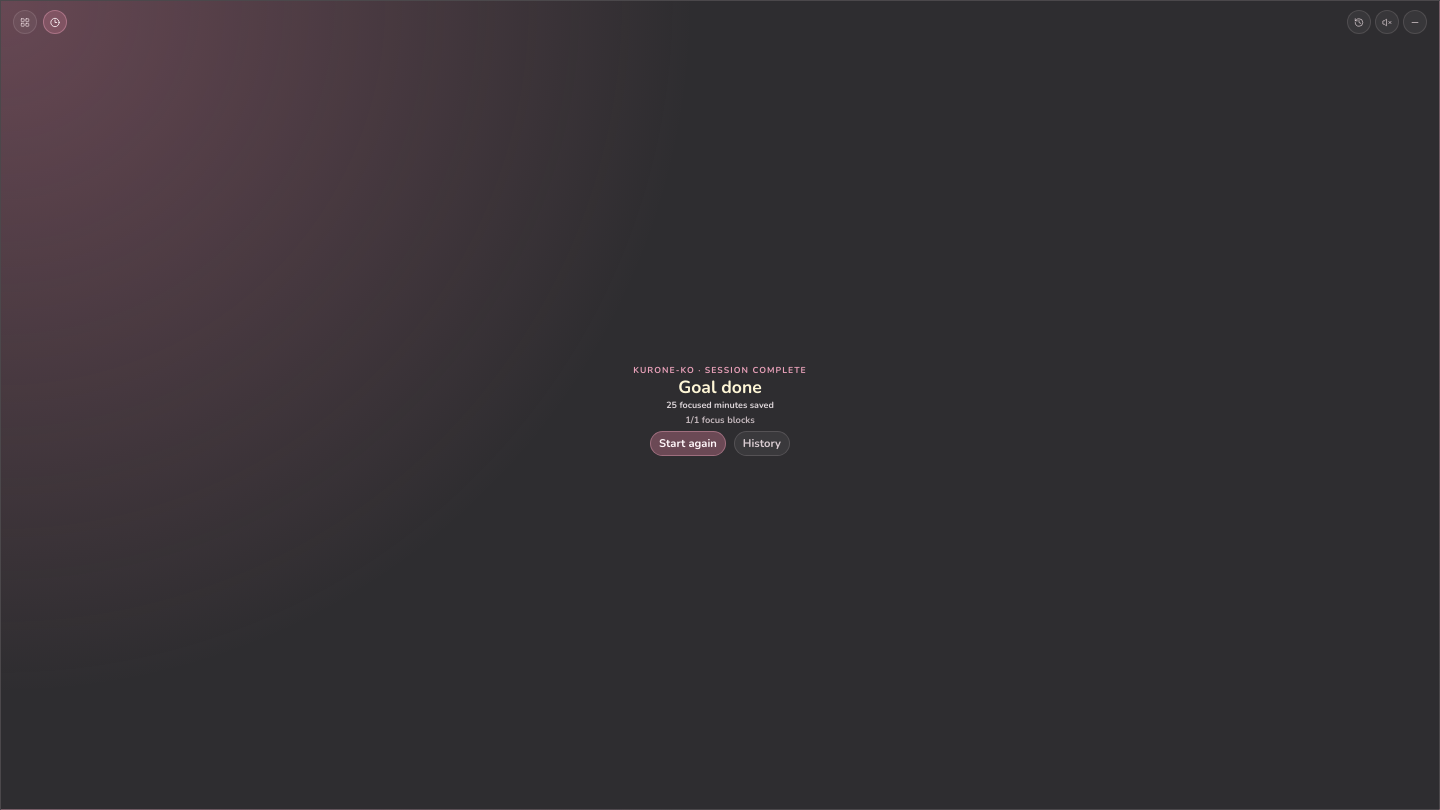
TimerWidget › starts a fresh focus block from the completed-session panel
What coordinates should you click on to do the following:
click the button "Start again"
I would click on:
 (688, 444)
Its box is [650, 431, 726, 456].
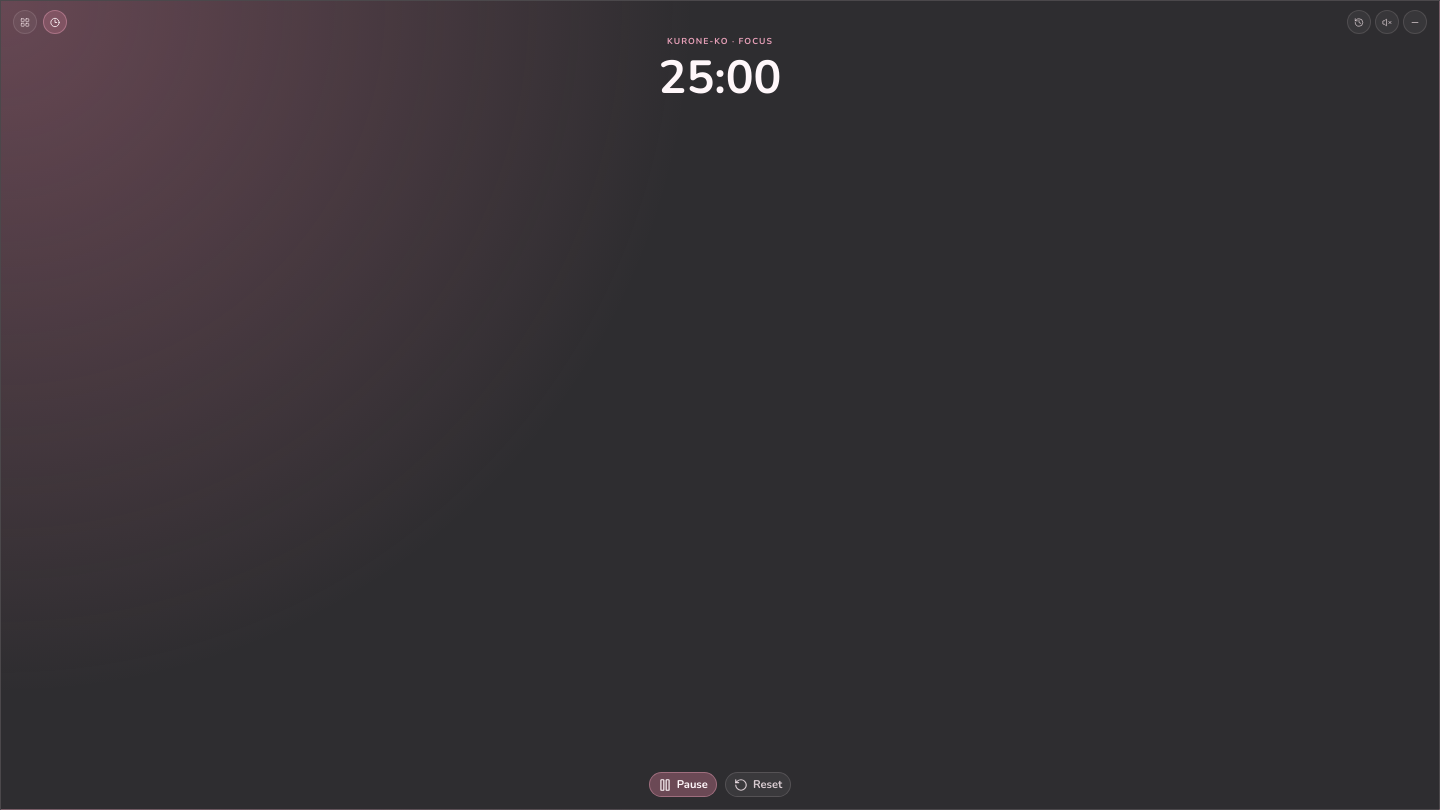
expect the text "KURONE-KO · Focus" is shown: met, box [667, 35, 773, 47]
expect the button "Pause" is shown: met, box [649, 772, 717, 797]
